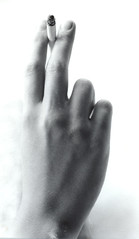cigarette: (45, 12, 58, 52)
